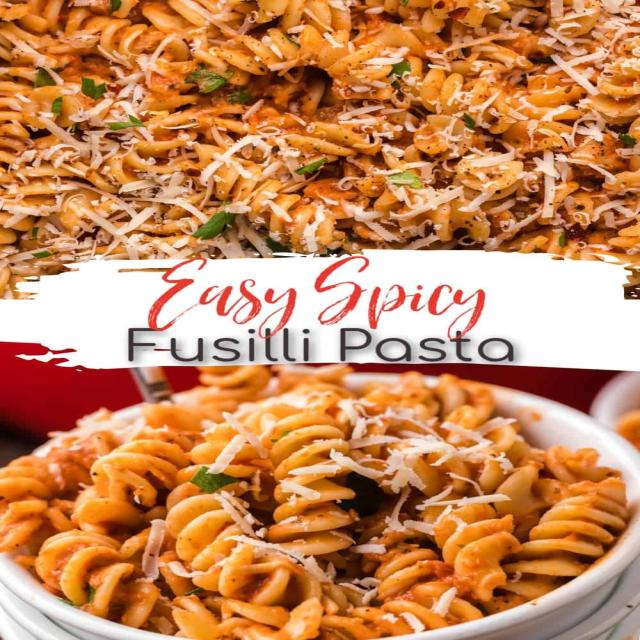pasta: (57, 24, 613, 256), (86, 418, 567, 623)
